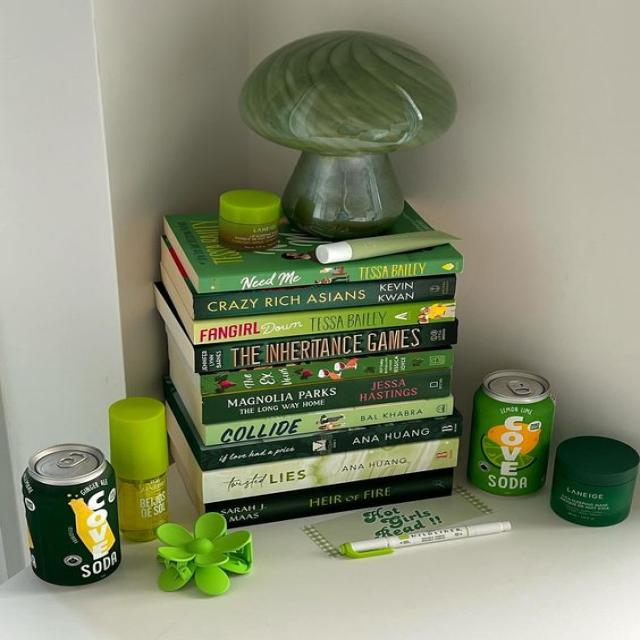book: (202, 440, 457, 501), (205, 469, 453, 530), (203, 367, 449, 422), (193, 321, 457, 372), (205, 417, 461, 469), (205, 396, 452, 445), (201, 348, 454, 395), (196, 276, 457, 320), (195, 303, 456, 343), (199, 256, 464, 293)
